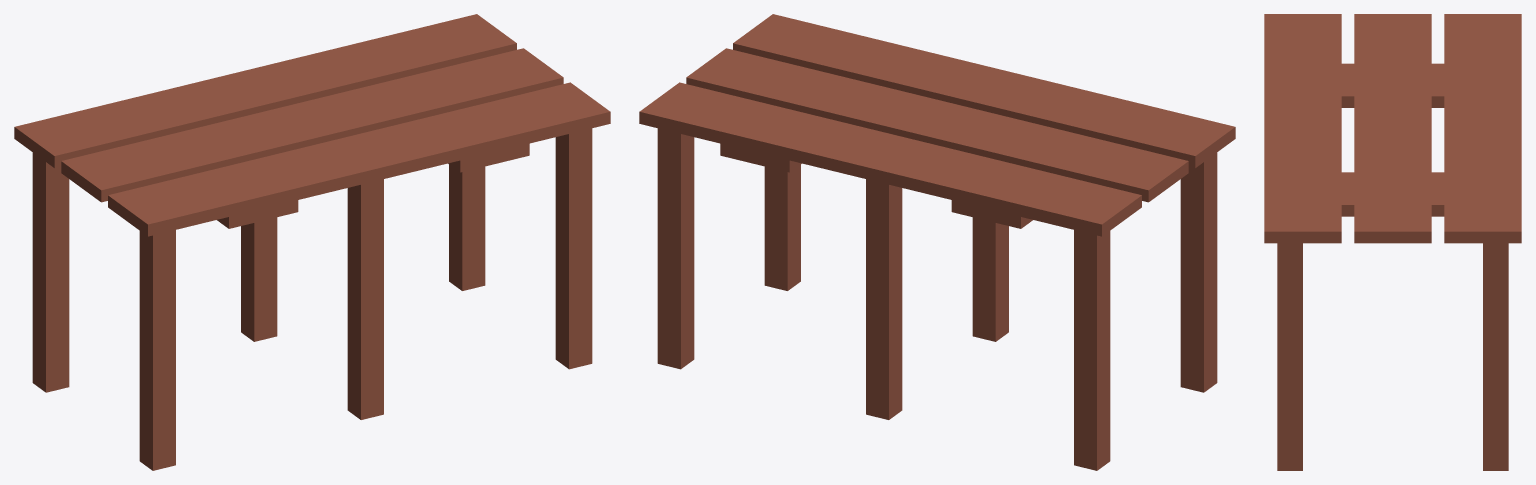
Rendered from scaffold_small_medium_long 1.fbx.
3 views of the same model, side by side, from view 1: azimuth 30°, elevation 25°; view 2: azimuth 150°, elevation 25°; view 3: azimuth 270°, elevation 25° (orthographic). The views are drawn at different scales.
Parts seen in each view (by area): view 1: scaffold_small_medium_long; view 2: scaffold_small_medium_long; view 3: scaffold_small_medium_long.
Part boxes in pixels (x1,y1,x2,y2): scaffold_small_medium_long: (14,14,610,470); scaffold_small_medium_long: (639,14,1235,470); scaffold_small_medium_long: (1264,14,1521,470).
Size of the model in its own units: 400 by 210 by 200.
